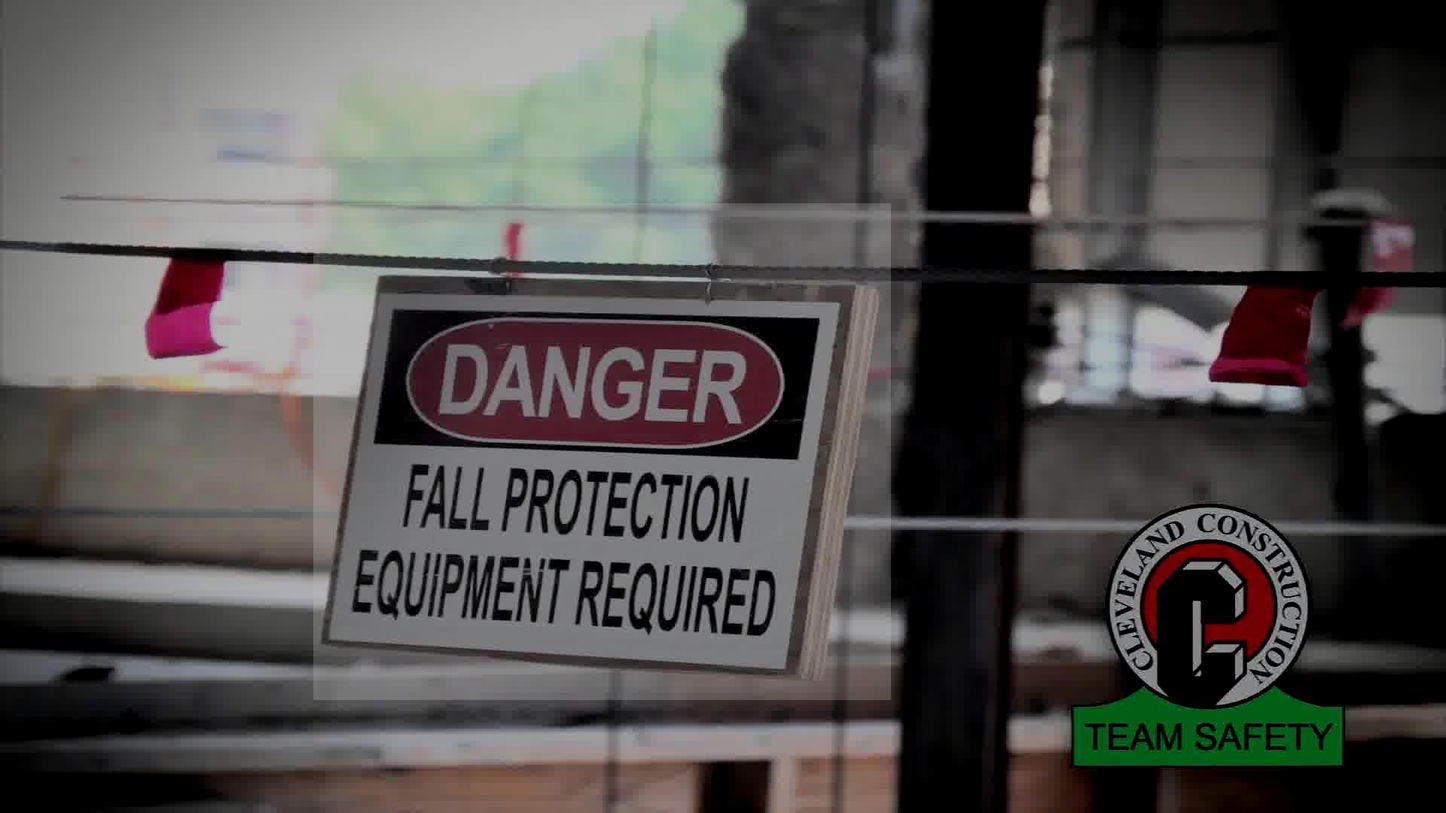safety_signage: (313, 203, 891, 700)
